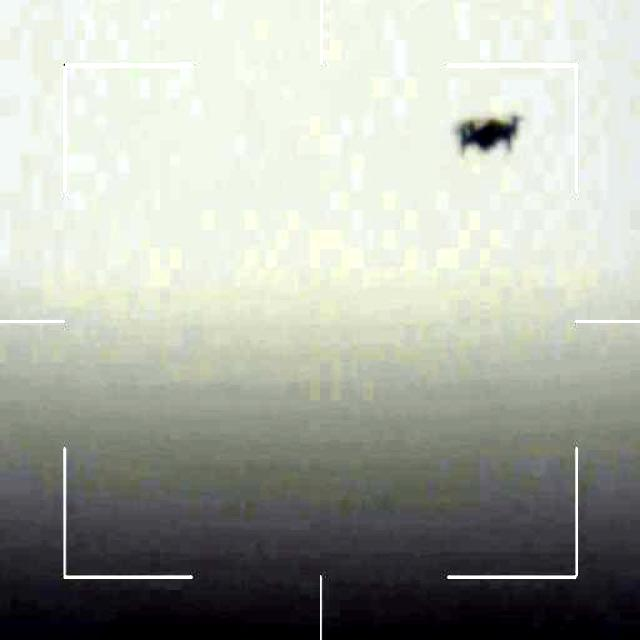bird: (456, 114, 525, 159)
